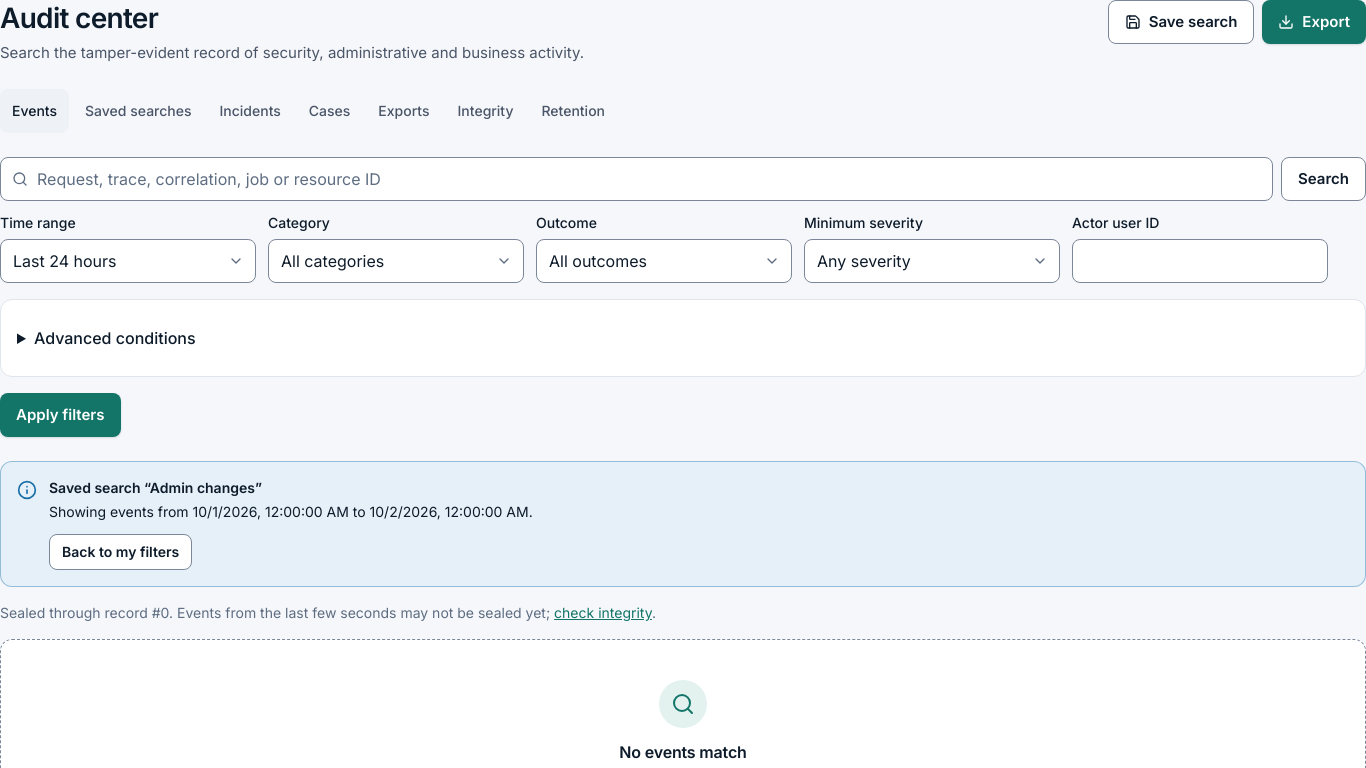
it: audit center page › applies ?saved=<id> exactly as stored and can return to the filters
This screenshot has width=1366, height=768.
Expected: the text "Saved search “Admin changes”" is shown, [49, 479, 262, 496]
Click the button "Back to my filters" at point(121, 552), box [49, 534, 192, 570]
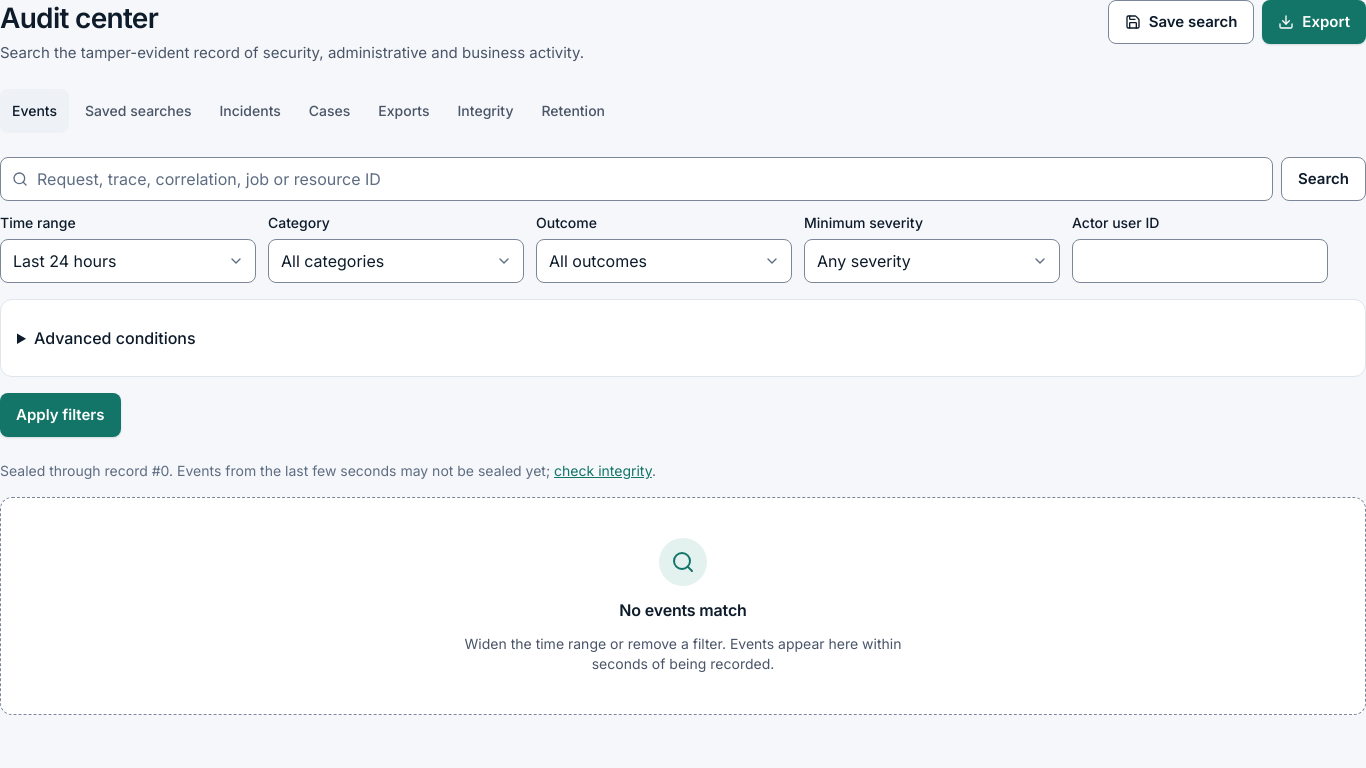
Now the text "Saved search “Admin changes”" is gone
